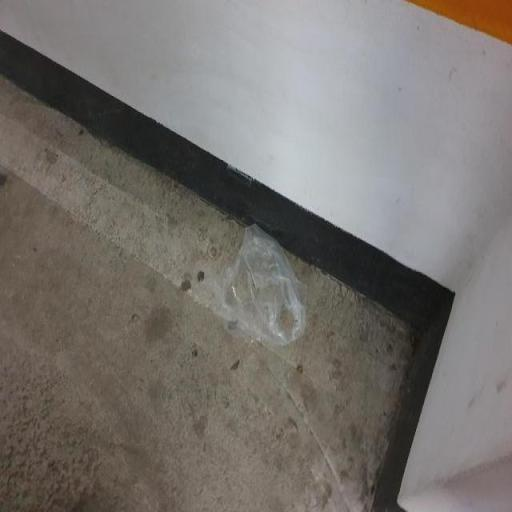plastic-bag: (217, 220, 312, 348)
